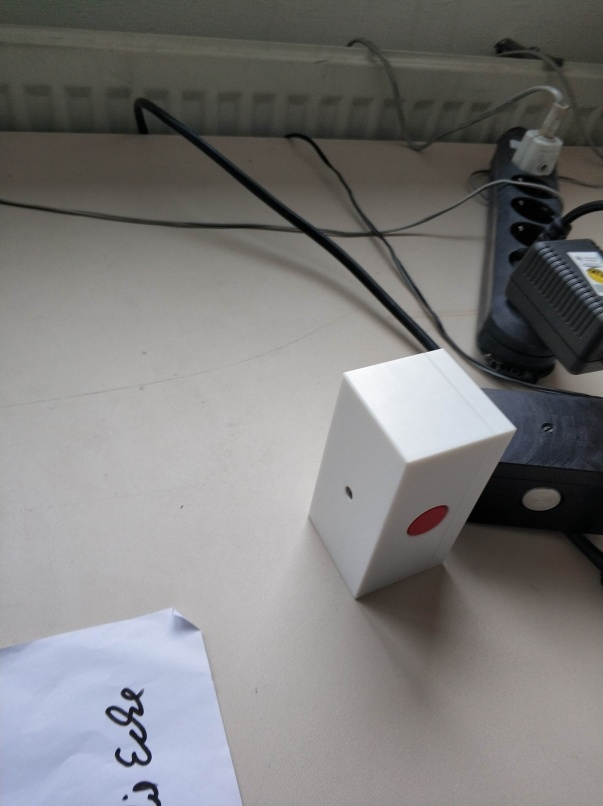white+white+red: (305, 346, 520, 607)
